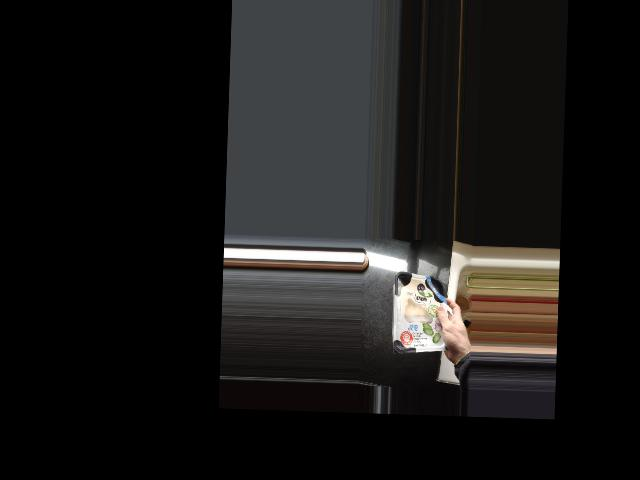cheese: (392, 273, 454, 354)
